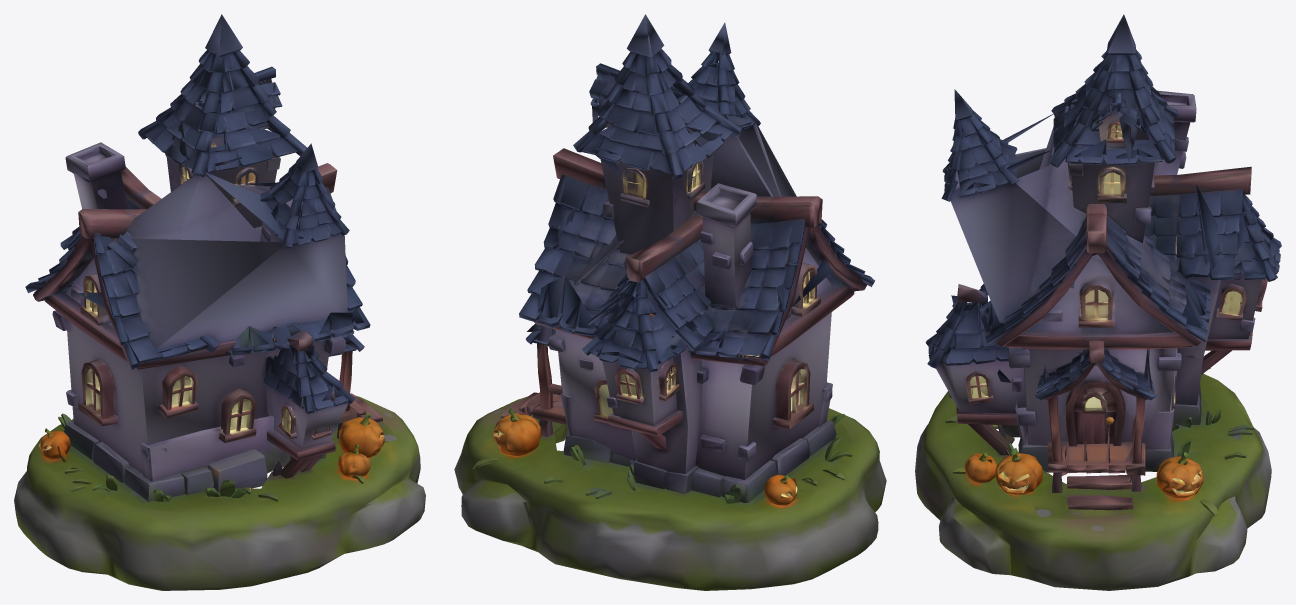
File: L3_HauntedManor_LOD1.fbx
The picture shows the model from 3 angles, left to right: view 1: azimuth 30°, elevation 25°; view 2: azimuth 150°, elevation 25°; view 3: azimuth 270°, elevation 25°; orthographic projection. The views are drawn at different scales.
Visible parts, largest first — view 1: L3_HauntedManor_LOD1; view 2: L3_HauntedManor_LOD1; view 3: L3_HauntedManor_LOD1.
Part boxes in pixels (box(x1,y1,x2,y2)): L3_HauntedManor_LOD1: box(14, 14, 425, 590); L3_HauntedManor_LOD1: box(454, 14, 886, 590); L3_HauntedManor_LOD1: box(915, 14, 1281, 590).
Bounding box in the file's own units: 7.15 × 9 × 6.05.
